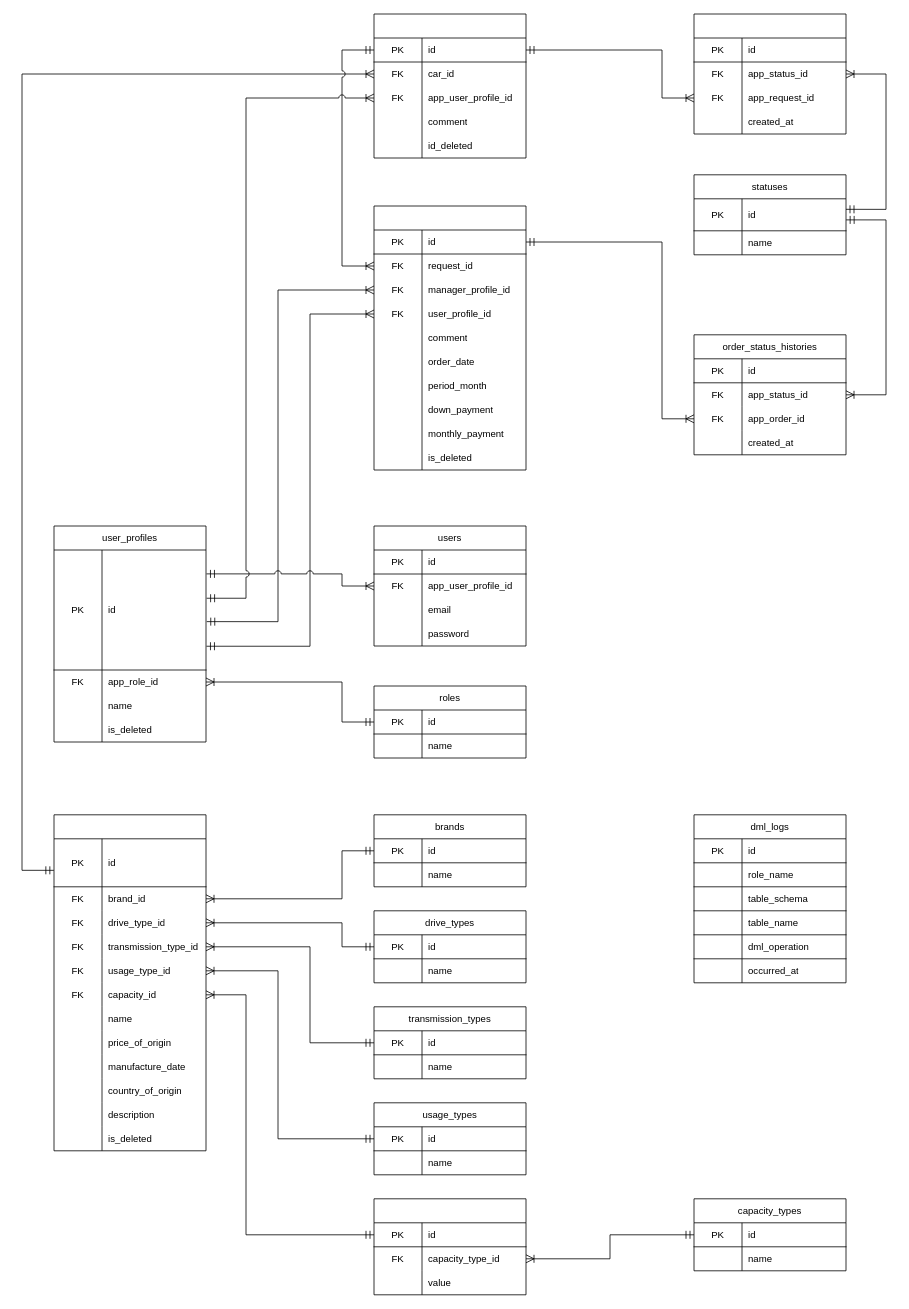
Some shapes in this 909 by 1309 pixel diagram are drawn without their labels. The box of each missing label's shape, as (x1, y1, x2, y2) in pixels:
capacities: (373, 1198, 526, 1295)
cars: (53, 814, 206, 1151)
orders: (373, 205, 526, 470)
request_status_histories: (693, 13, 846, 134)
requests: (373, 13, 526, 158)
